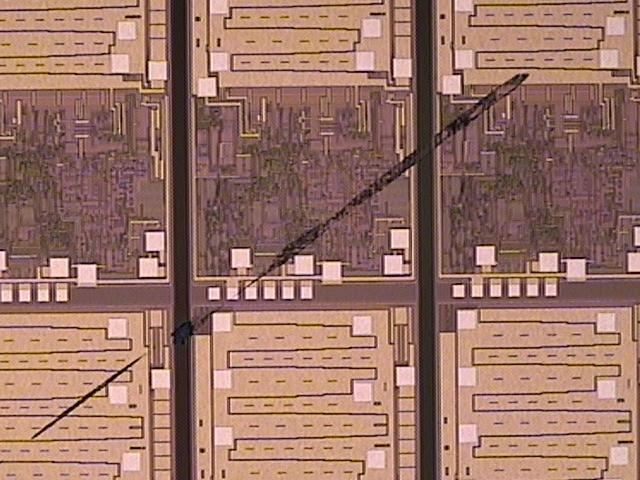SCRATCH: (23, 65, 534, 448)
